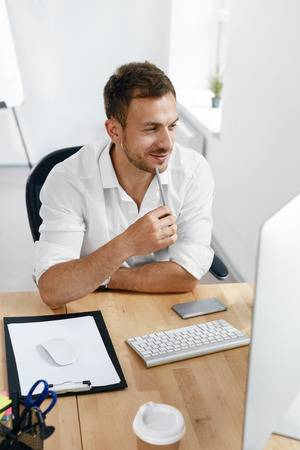F_shirt: (33, 139, 213, 281)
